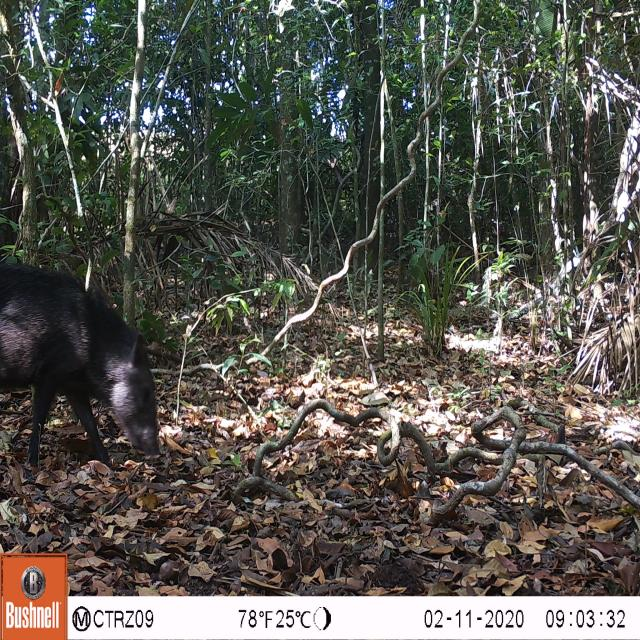Collared Peccary: (0, 258, 168, 478)
